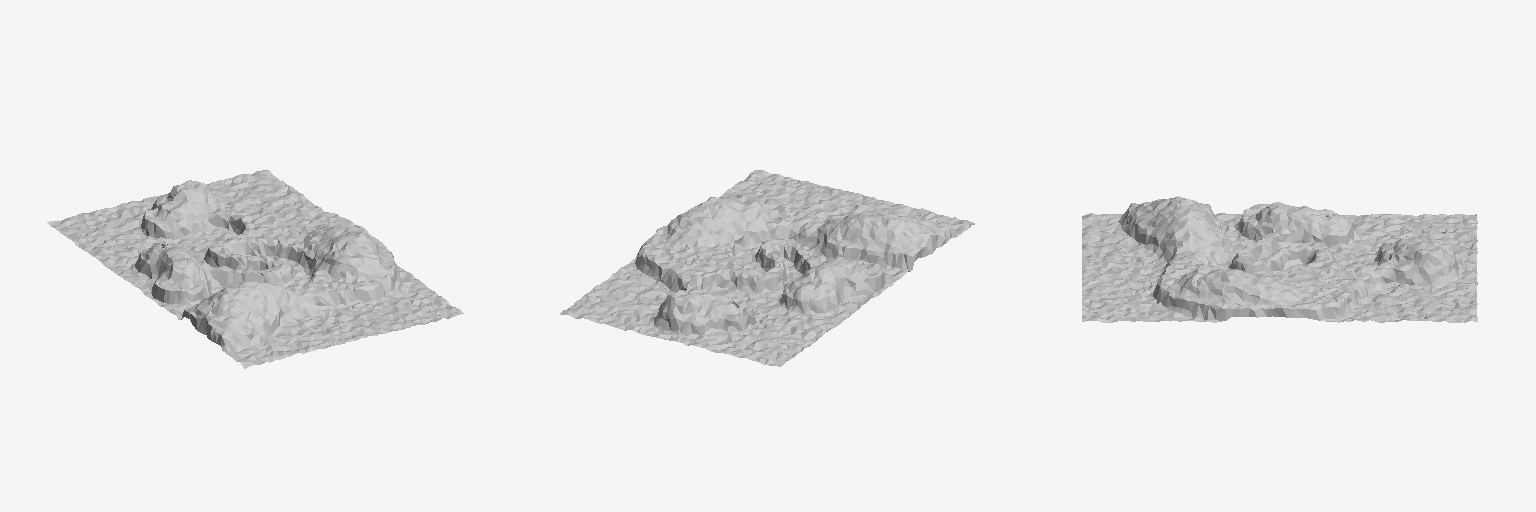
The model's file is Terrain_02_lowpoly.obj.
3 renders of one model, left to right at view 1: azimuth 30°, elevation 25°; view 2: azimuth 150°, elevation 25°; view 3: azimuth 270°, elevation 25°, orthographic.
Visible parts, largest first — view 1: Terrain_01.001_Terrain_01.003; view 2: Terrain_01.001_Terrain_01.003; view 3: Terrain_01.001_Terrain_01.003.
Boxes of the visible parts, x1=… form: Terrain_01.001_Terrain_01.003: x1=47, y1=170, x2=463, y2=368; Terrain_01.001_Terrain_01.003: x1=560, y1=170, x2=974, y2=366; Terrain_01.001_Terrain_01.003: x1=1082, y1=196, x2=1477, y2=322.
Bounding box in the file's own units: 36.51 × 6.48 × 56.06.